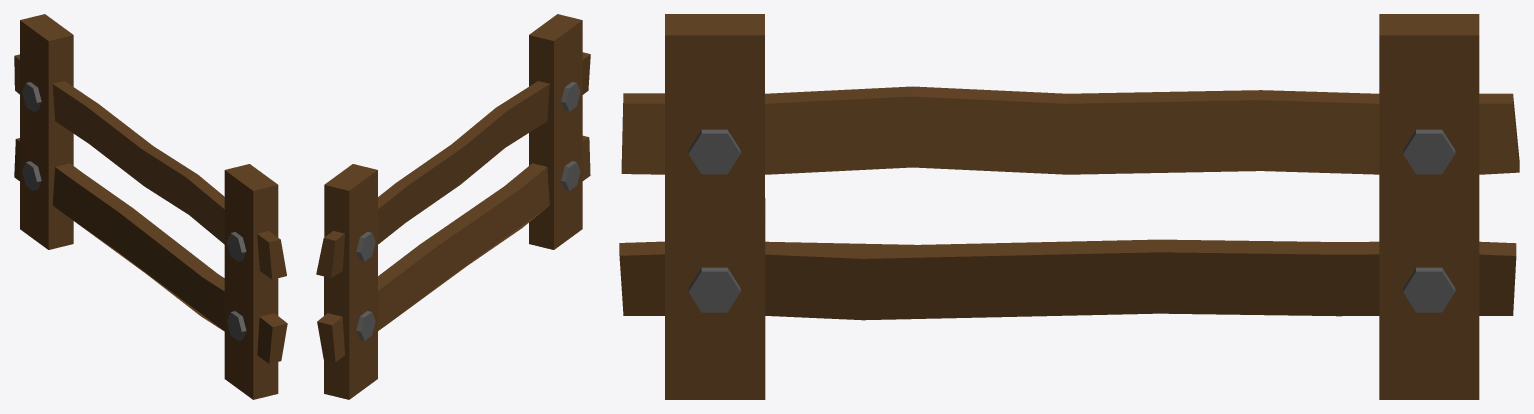
File: barrière.fbx
3 renders of one model, left to right at view 1: azimuth 30°, elevation 25°; view 2: azimuth 150°, elevation 25°; view 3: azimuth 270°, elevation 25°, orthographic. The views are drawn at different scales.
Parts seen in each view (by area): view 1: barriere; view 2: barriere; view 3: barriere.
Boxes of the visible parts, x1,y1,x2,y2 form: barriere: (14,14,287,399); barriere: (316,14,590,399); barriere: (619,14,1519,399).
Bounding box in the file's own units: 36.52 × 211 × 472.
